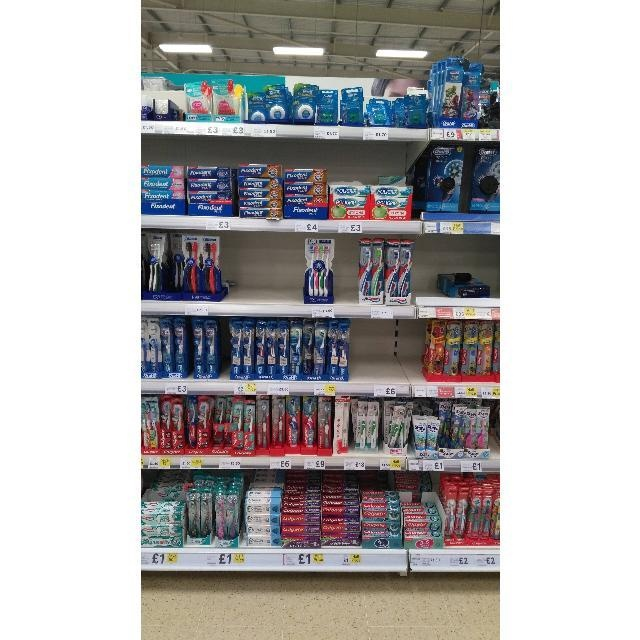empty: (227, 232, 302, 302), (349, 318, 421, 383), (333, 232, 358, 304), (412, 236, 437, 295)
